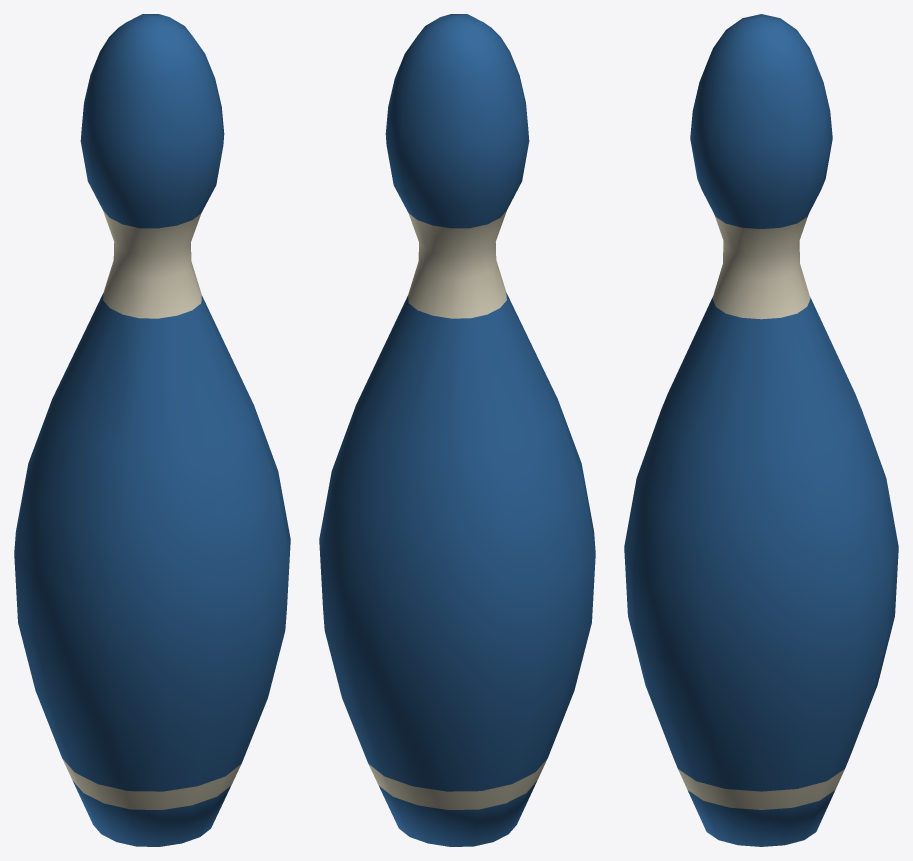
File: pin_blue.gltf
The picture shows the model from 3 angles, left to right: view 1: azimuth 30°, elevation 25°; view 2: azimuth 150°, elevation 25°; view 3: azimuth 270°, elevation 25°; orthographic projection.
Visible parts, largest first — view 1: pin.003; view 2: pin.003; view 3: pin.003.
Part boxes in pixels (x1,y1,x2,y2): pin.003: (14,14,290,846); pin.003: (319,14,595,846); pin.003: (624,14,898,846).
Bounding box in the file's own units: 0.1176 × 0.38 × 0.1176.
1 material, 1 textured.
